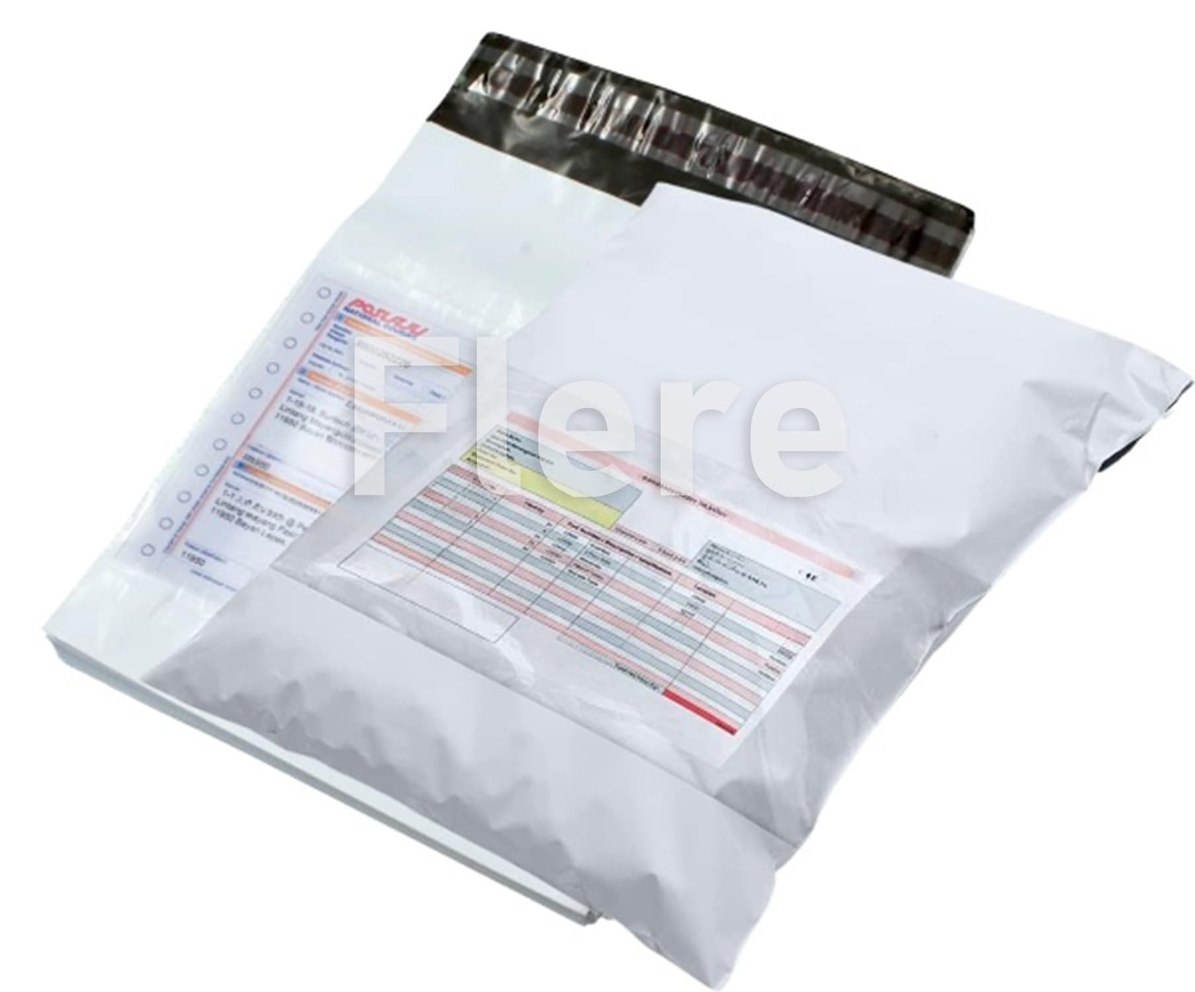Parcel: (49, 32, 1189, 985)
